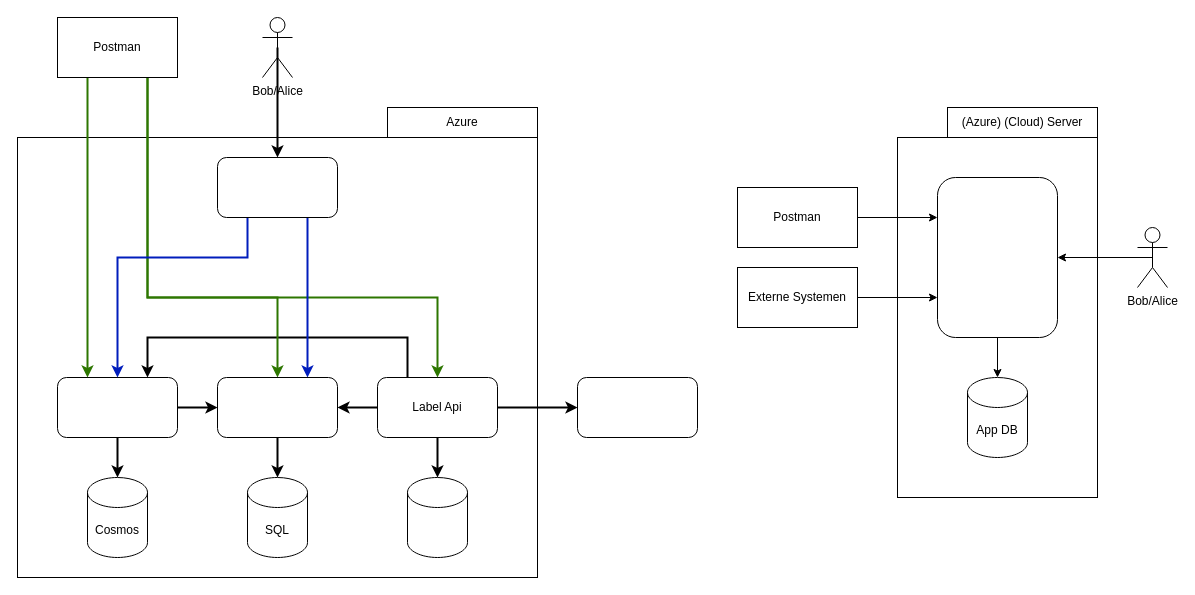
This 1195x595 diagram has some shape labels left out. Here are the shapes that lost their labels. From the top down, the box of each, then its label:
(216, 156, 338, 218): WebApp
(936, 176, 1058, 338): UI Pages API Endpoints Quote, Label & Identity Management
(56, 376, 178, 438): Quote Api
(216, 376, 338, 438): Identity Server
(576, 376, 698, 438): FR Adres Api
(406, 476, 468, 558): Blob
